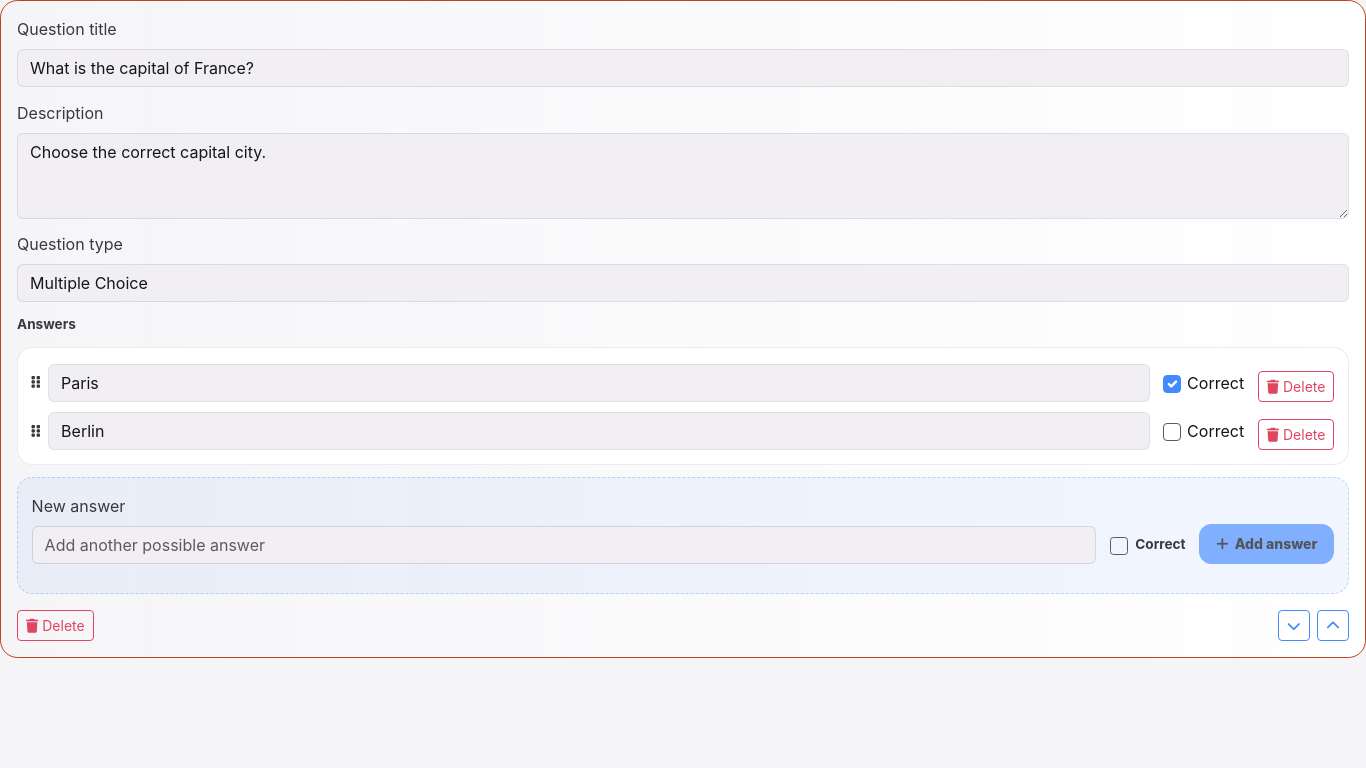
Test: QuestionCard › shows validation error when saving empty question title
The width and height of the screenshot is (1366, 768).
Clear the field showing "What is the capital of France?". click: (683, 68)
box: [17, 49, 1349, 87]
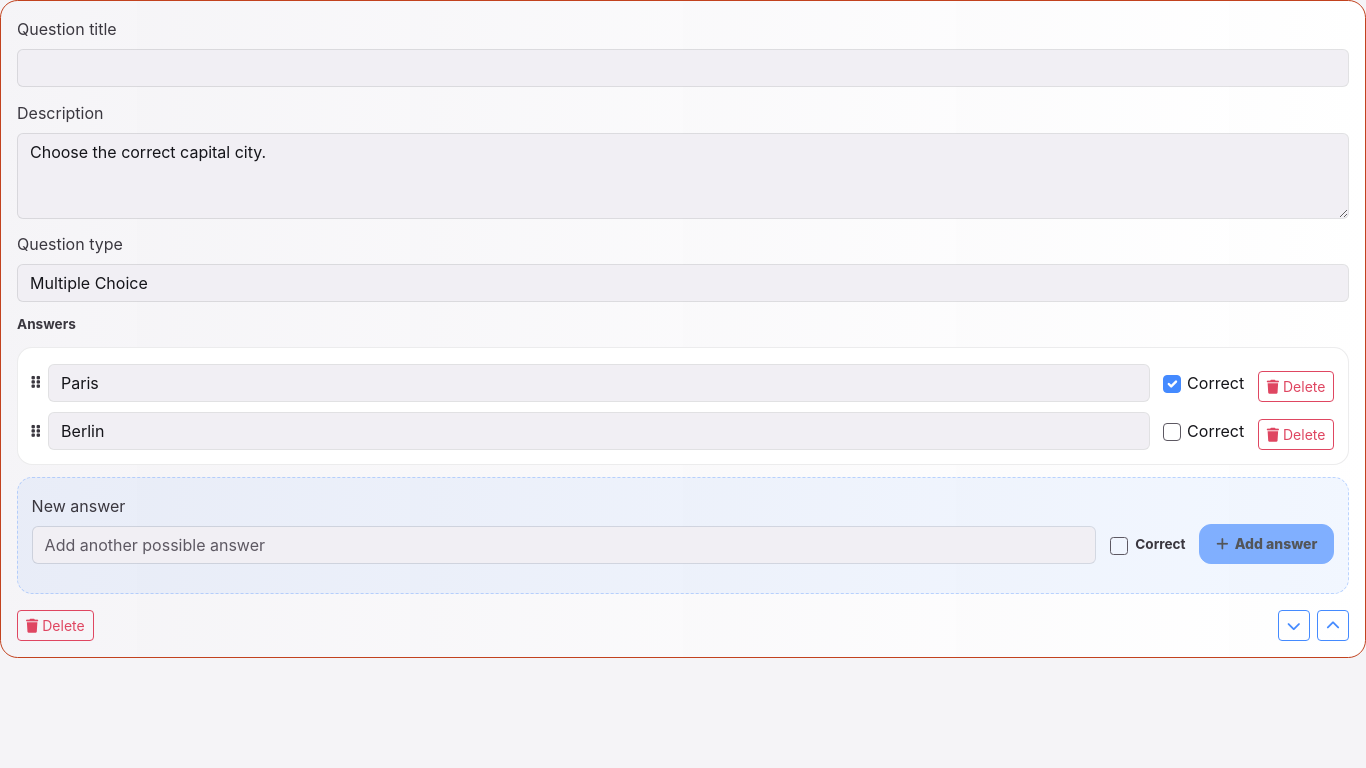
Leave the field showing "What is the capital of France?", box [17, 49, 1349, 87]
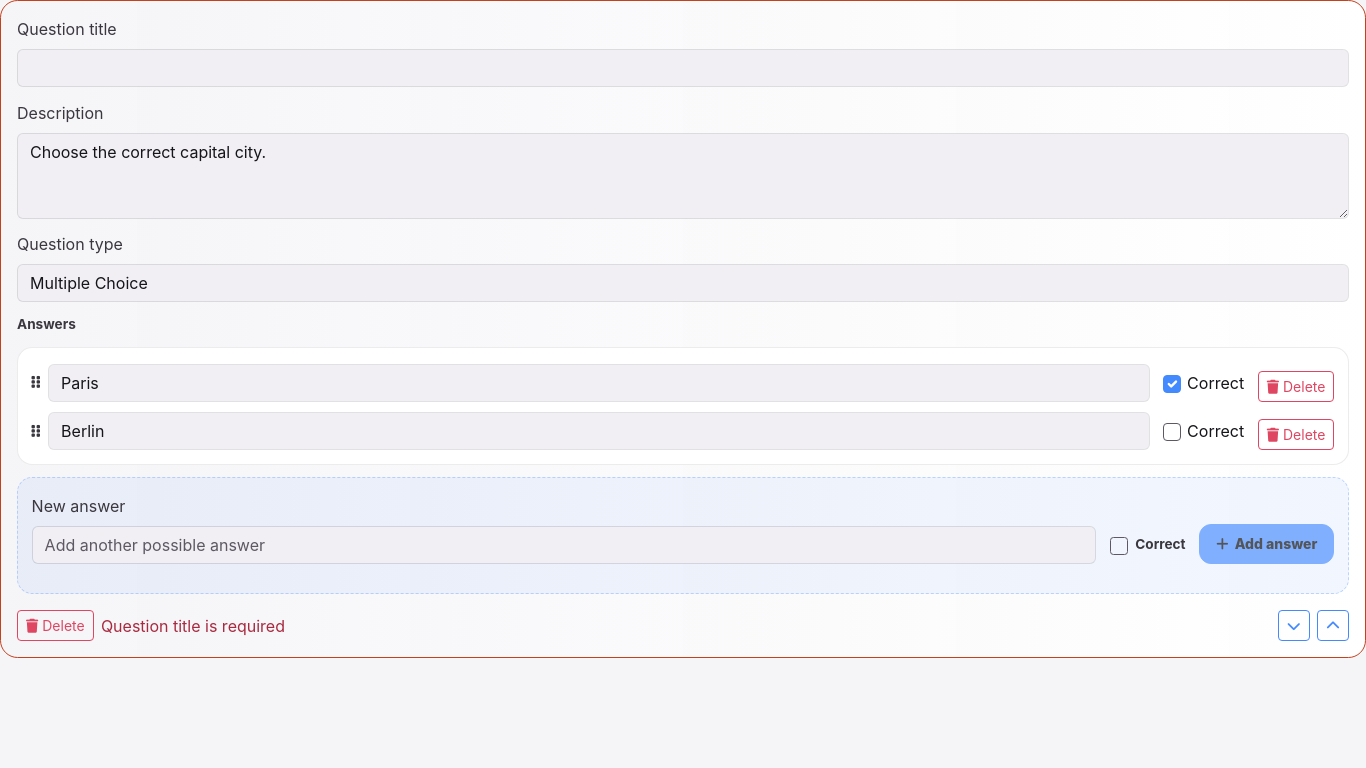
Now the text "Question title is required" is shown, box [101, 614, 285, 638]
